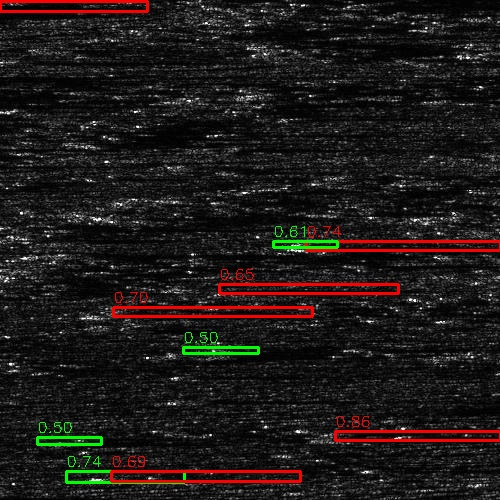rock: (257, 240, 382, 251), (46, 308, 171, 319), (0, 52, 58, 67), (45, 137, 108, 146), (175, 285, 238, 292), (337, 0, 390, 8), (88, 474, 141, 479), (207, 346, 260, 351), (163, 396, 216, 401), (50, 249, 81, 256)
shadow: (6, 52, 199, 67), (66, 249, 363, 256), (320, 240, 500, 251), (109, 308, 280, 319), (0, 71, 138, 82), (207, 285, 387, 292), (77, 137, 203, 146), (364, 0, 500, 8), (0, 4, 147, 11), (115, 474, 293, 479), (234, 346, 352, 351), (190, 396, 308, 401), (0, 492, 65, 499), (0, 160, 29, 169)
